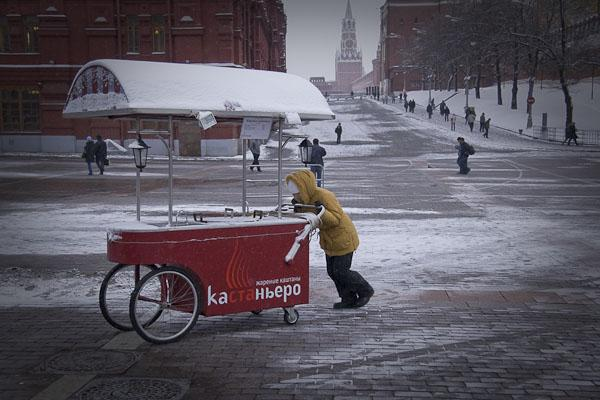person: (286, 166, 376, 312)
